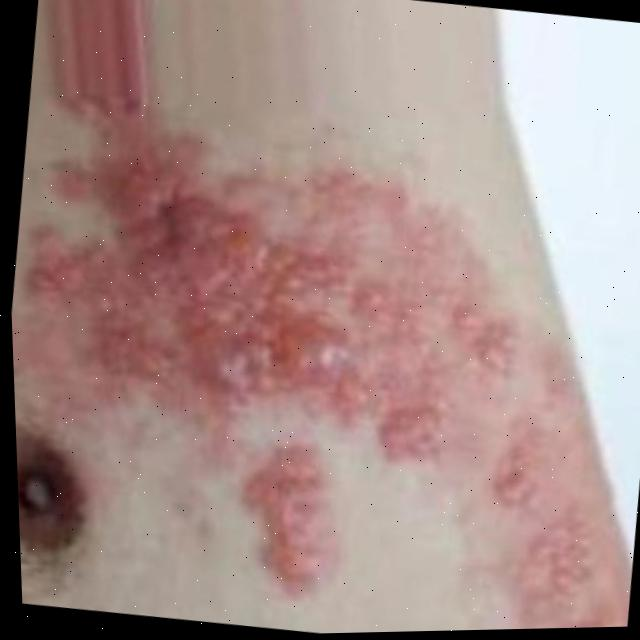Shingles: (24, 138, 527, 470), (501, 478, 640, 629), (263, 451, 335, 586)
